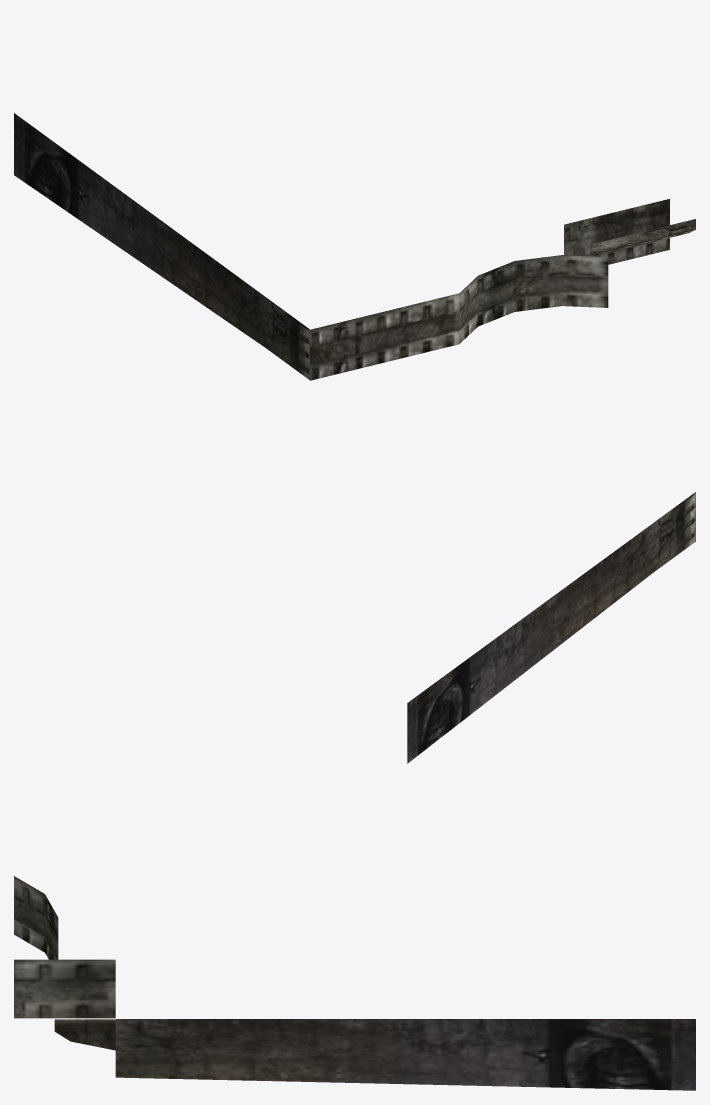
3 views of the same model, one above another, from view 1: azimuth 30°, elevation 25°; view 2: azimuth 150°, elevation 25°; view 3: azimuth 270°, elevation 25° (orthographic). The views are drawn at different scales.
Visible parts, largest first — view 1: model_object10; view 2: model_object10; view 3: model_object10.
Boxes of the visible parts, box(x1,y1,x2,y2) form: model_object10: box(14, 113, 695, 380); model_object10: box(407, 492, 695, 763); model_object10: box(14, 876, 695, 1090).
Bounding box in the file's own units: 2.8 × 0.4142 × 3.56.
1 material, 1 textured.
